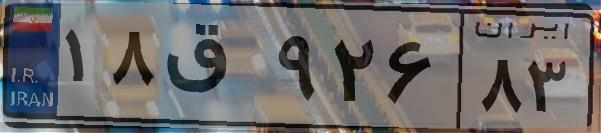1: (57, 26, 110, 100)
2: (330, 28, 385, 110)
3: (525, 38, 570, 115)
6: (385, 28, 445, 110)
8: (475, 38, 525, 113), (110, 28, 158, 98)
9: (270, 28, 330, 110)
ق: (158, 20, 270, 120)
